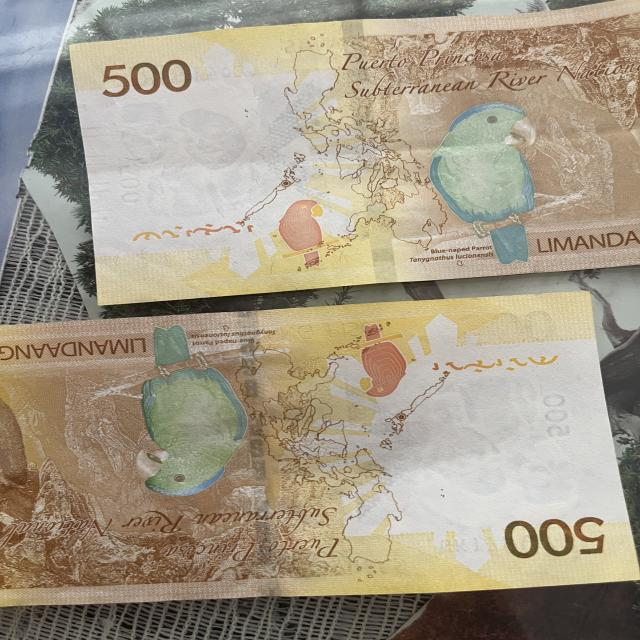500_big_parrot: (422, 102, 564, 268), (129, 329, 256, 497)
500_parrot_watermark: (344, 317, 416, 397), (273, 196, 334, 272)
value_watermark: (542, 392, 578, 436), (114, 165, 147, 208)
watermark: (412, 372, 583, 520), (112, 90, 271, 229)
